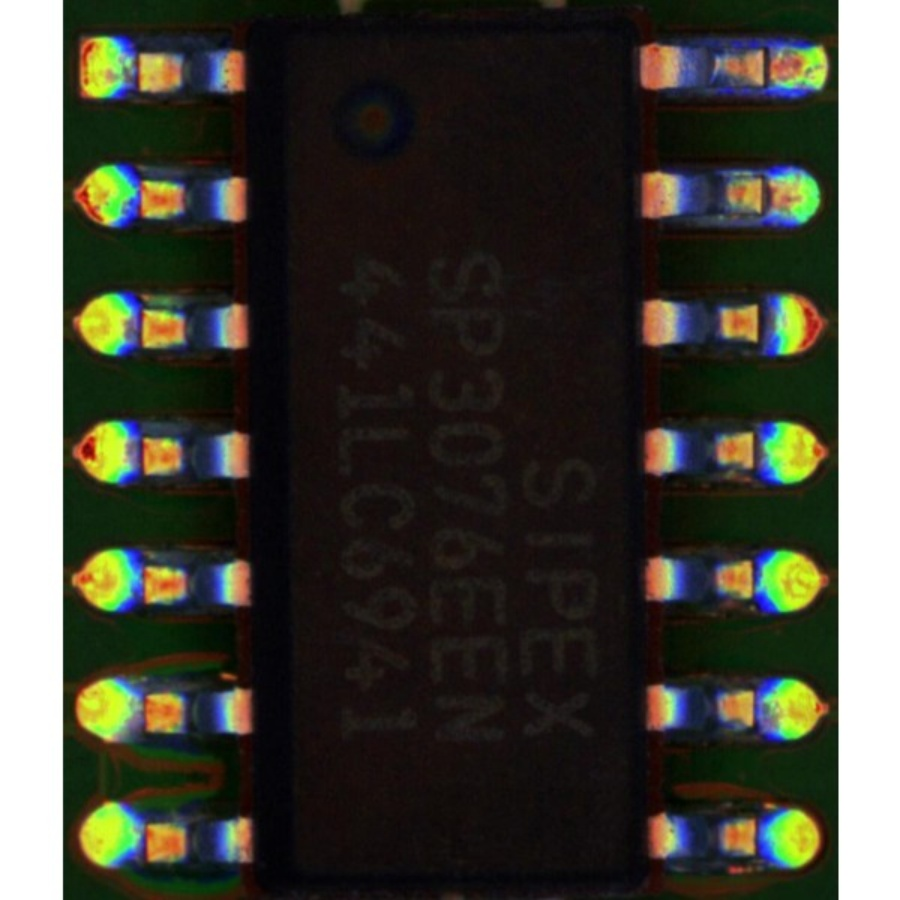Bad_podu: (751, 178, 795, 214), (748, 50, 784, 84)
